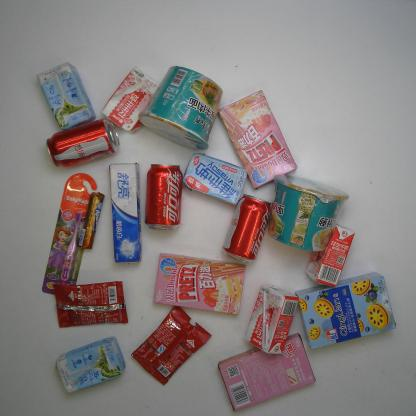Candy: (78, 191, 105, 250)
Dessert: (217, 89, 298, 190), (294, 272, 396, 350), (218, 332, 316, 412), (153, 252, 247, 314)
Drink: (45, 117, 120, 168), (222, 193, 271, 264), (144, 164, 184, 232)
Instant Drink: (131, 306, 212, 387), (52, 280, 128, 329)
Instant Noodles: (138, 65, 223, 151), (266, 174, 350, 252)
Milk: (35, 62, 97, 130), (100, 67, 160, 135), (56, 336, 127, 393), (244, 284, 299, 355), (181, 152, 248, 205), (305, 224, 355, 288)
Personal Hygiene: (42, 173, 97, 295), (110, 162, 142, 263)
